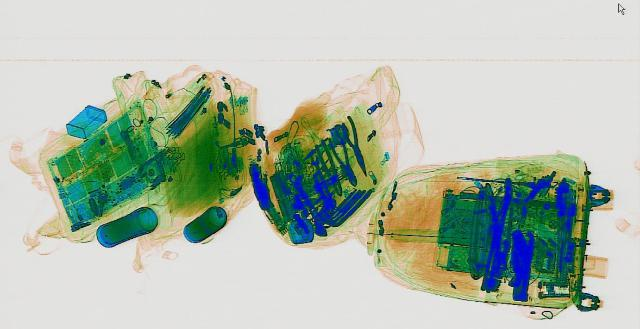Pliers: (336, 114, 372, 175), (310, 140, 348, 193), (326, 136, 364, 185)
